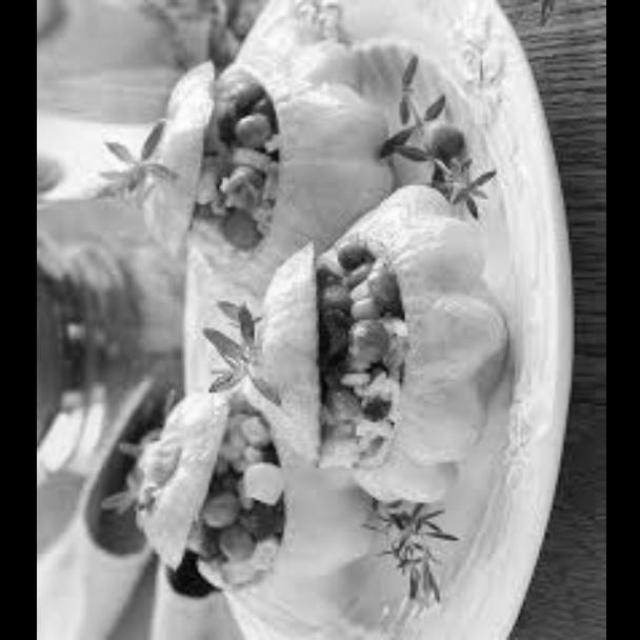bi dao: (340, 170, 506, 526), (200, 19, 373, 307), (227, 398, 366, 638), (100, 379, 216, 576), (228, 230, 326, 463), (126, 71, 217, 241)
